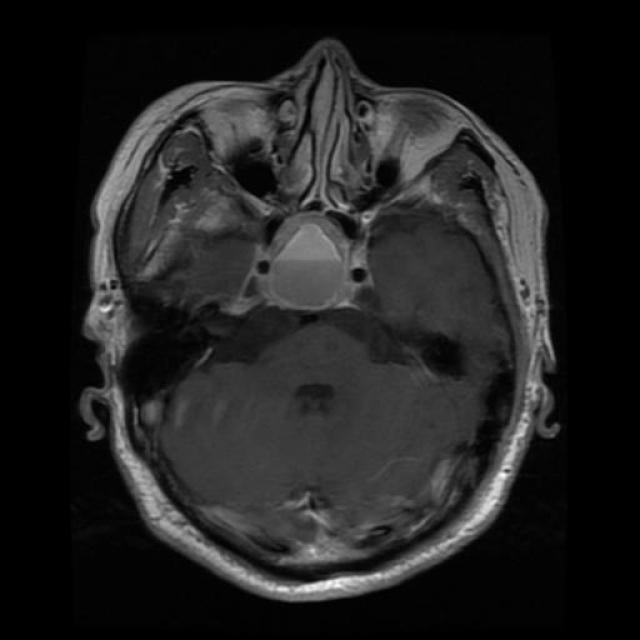pituitary: (230, 177, 367, 340)
